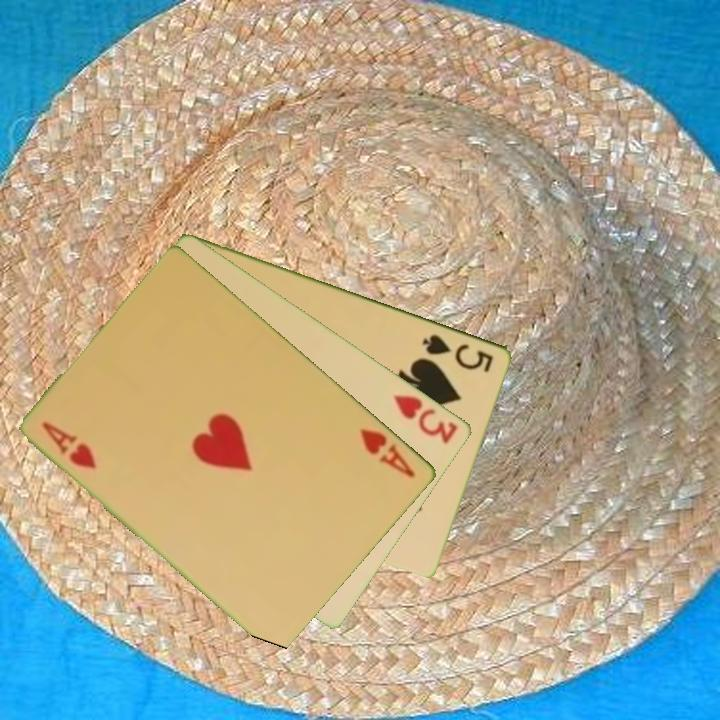3h: (390, 391, 462, 447)
5s: (419, 330, 497, 376)
Ah: (357, 424, 419, 481), (39, 417, 100, 472)
